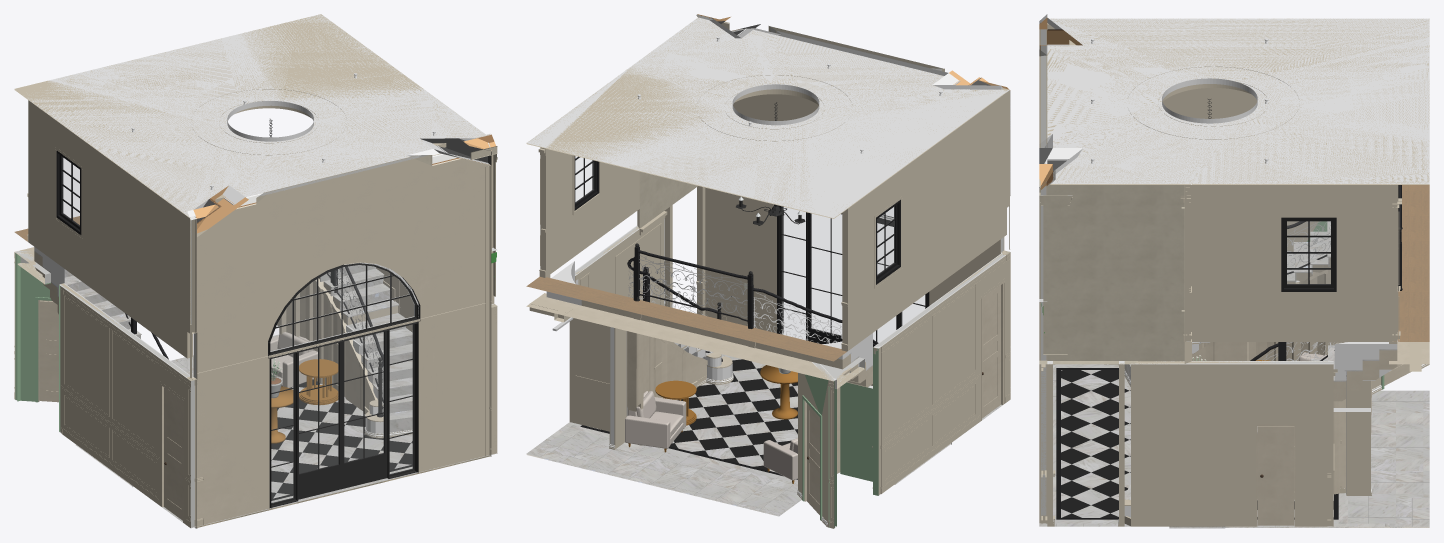
The model's file is entry-20fcb93c4140.glb.
3 views of the same model, side by side, from view 1: azimuth 30°, elevation 25°; view 2: azimuth 150°, elevation 25°; view 3: azimuth 270°, elevation 25° (orthographic). The views are drawn at different scales.
Visible parts, largest first — view 1: entry-9d91b47435c6fb33, entry-4edf3a9420c06709, entry-e8793759323e04f0, entry-698abdfdc6fb970d, entry-9ca48b730e5de4b2, entry-746250f96522f643, entry-85f0fd939e0fcc78, entry-8d5f500af8e4c699, entry-785988ccf932ddd5, entry-c4ac463b6a960119, entry-969fb0f33943ba89, entry-8c6a7019fd0063e7 (+17 smaller); view 2: entry-9d91b47435c6fb33, entry-746250f96522f643, entry-e8793759323e04f0, entry-85f0fd939e0fcc78, entry-2575515a05775d9e, entry-d5a4a1b5d3594c04, entry-698abdfdc6fb970d, entry-ba376bd68a22f7f3, entry-c4ac463b6a960119, entry-c51ecd664a3b22a3, entry-8b5649904563319a, entry-6a051330000fbca1 (+27 smaller); view 3: entry-9d91b47435c6fb33, entry-6a051330000fbca1, entry-c51ecd664a3b22a3, entry-e8793759323e04f0, entry-62353aa10fc57f23, entry-c4ac463b6a960119, entry-ba376bd68a22f7f3, entry-2575515a05775d9e, entry-20932135983111ad, entry-489e9ad801b4b62e, entry-80d276f58a4dc5cb, entry-224035c89a69c041 (+18 smaller).
Boxes of the visible parts, bbox=[...] form: entry-9d91b47435c6fb33: bbox=[14, 14, 485, 218]; entry-4edf3a9420c06709: bbox=[195, 150, 491, 372]; entry-e8793759323e04f0: bbox=[14, 14, 483, 217]; entry-698abdfdc6fb970d: bbox=[269, 322, 418, 508]; entry-9ca48b730e5de4b2: bbox=[195, 302, 490, 526]; entry-746250f96522f643: bbox=[28, 100, 192, 358]; entry-85f0fd939e0fcc78: bbox=[60, 283, 192, 525]; entry-8d5f500af8e4c699: bbox=[268, 262, 420, 358]; entry-785988ccf932ddd5: bbox=[196, 150, 491, 373]; entry-c4ac463b6a960119: bbox=[271, 379, 412, 498]; entry-969fb0f33943ba89: bbox=[196, 302, 490, 526]; entry-8c6a7019fd0063e7: bbox=[277, 279, 375, 410]; entry-9d91b47435c6fb33: bbox=[526, 17, 1008, 218]; entry-746250f96522f643: bbox=[842, 92, 1006, 350]; entry-e8793759323e04f0: bbox=[528, 18, 1008, 210]; entry-85f0fd939e0fcc78: bbox=[873, 253, 1006, 494]; entry-2575515a05775d9e: bbox=[526, 275, 851, 381]; entry-d5a4a1b5d3594c04: bbox=[706, 188, 1007, 389]; entry-698abdfdc6fb970d: bbox=[777, 205, 929, 346]; entry-ba376bd68a22f7f3: bbox=[540, 428, 800, 515]; entry-c4ac463b6a960119: bbox=[586, 354, 797, 472]; entry-c51ecd664a3b22a3: bbox=[540, 147, 639, 277]; entry-8b5649904563319a: bbox=[570, 281, 609, 431]; entry-6a051330000fbca1: bbox=[569, 219, 663, 421]; entry-9d91b47435c6fb33: bbox=[1041, 18, 1429, 184]; entry-6a051330000fbca1: bbox=[1131, 361, 1333, 526]; entry-c51ecd664a3b22a3: bbox=[1192, 184, 1398, 341]; entry-e8793759323e04f0: bbox=[1042, 14, 1429, 183]; entry-62353aa10fc57f23: bbox=[1047, 184, 1191, 364]; entry-c4ac463b6a960119: bbox=[1061, 370, 1333, 517]; entry-ba376bd68a22f7f3: bbox=[1348, 390, 1429, 523]; entry-2575515a05775d9e: bbox=[1389, 185, 1429, 364]; entry-20932135983111ad: bbox=[1281, 217, 1336, 291]; entry-489e9ad801b4b62e: bbox=[1043, 195, 1067, 354]; entry-80d276f58a4dc5cb: bbox=[1257, 426, 1294, 525]; entry-224035c89a69c041: bbox=[1346, 380, 1370, 495].
Size of the model in its own units: 6.54 by 6.44 by 6.51.
Materials: 48 (9 with a texture image).
